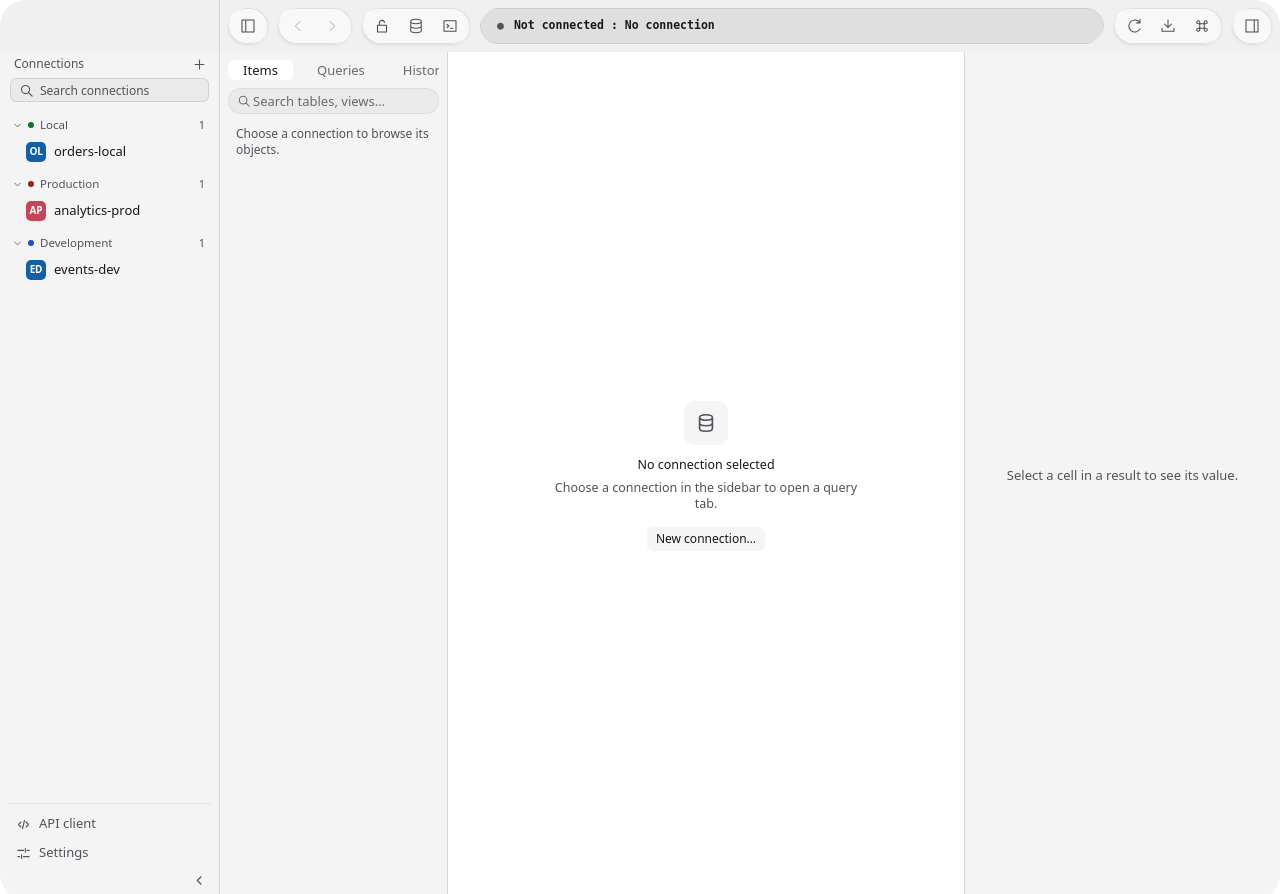
Scenario: defaults to workspace, opens the gallery from the command palette and returns by Back/Escape
expect the text "Choose a connection in the sidebar to open a query tab." is shown: met, box [546, 480, 866, 513]
Click the button named "Command palette": (1202, 26) [1185, 11, 1219, 41]
(page scrolled)
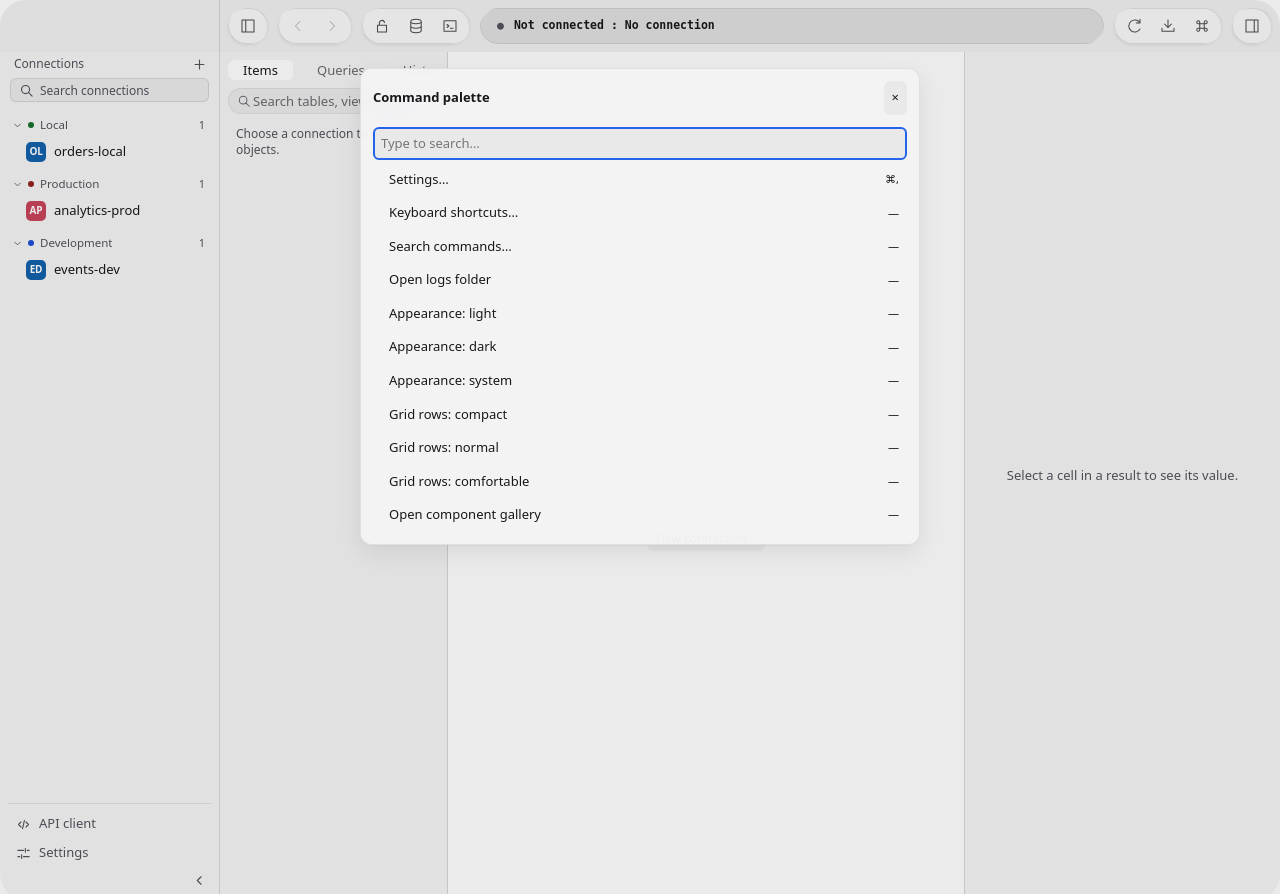
Click the option "Open component gallery —": (394, 514) [389, 505, 899, 523]
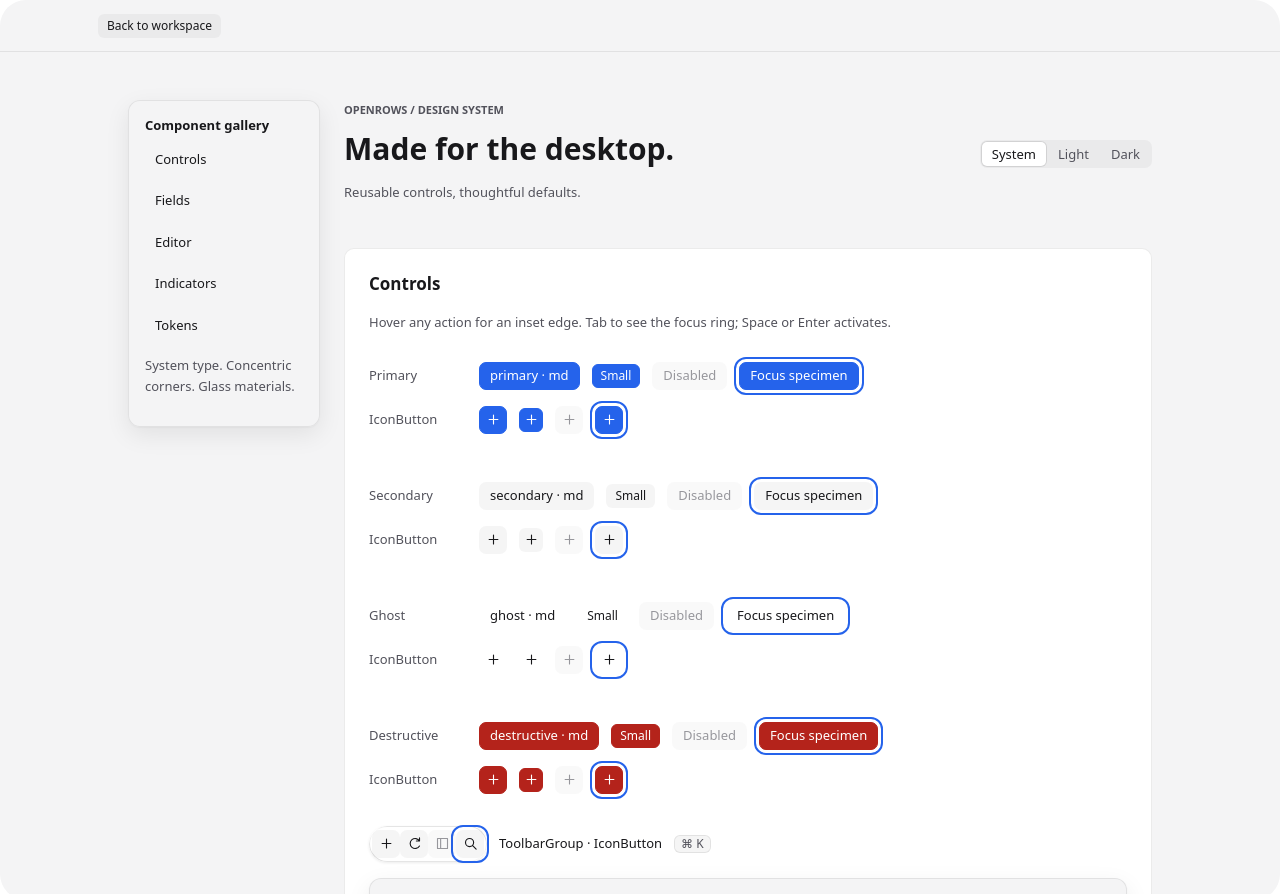
expect the heading "Made for the desktop." is shown: met, box [344, 129, 674, 169]
expect the text "open a query tab" is gone: met
Type keys "{Meta>}t{/Meta}"
Click the button "Back to workspace": (160, 26) [98, 14, 221, 38]
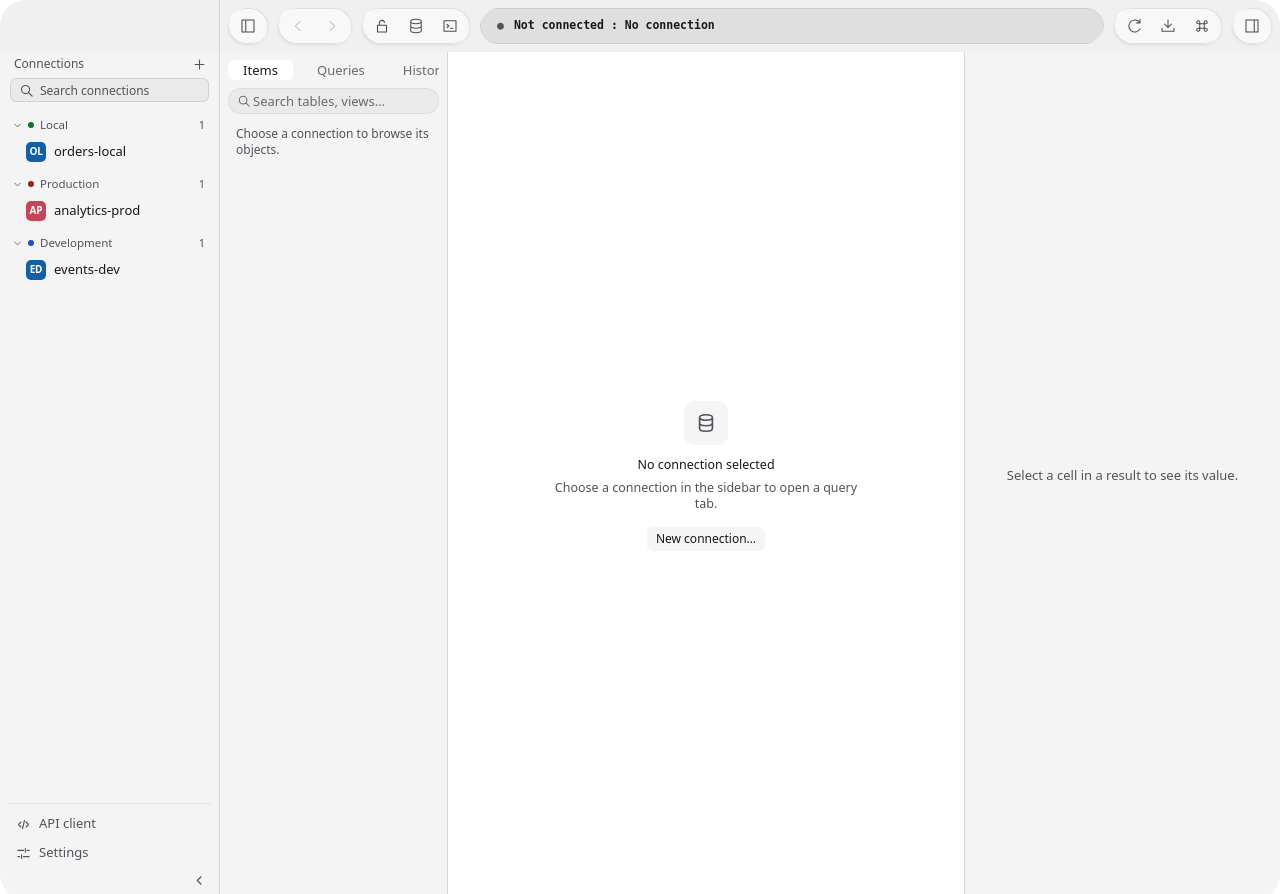
expect the text "Choose a connection in the sidebar to open a query tab." is shown: met, box [546, 480, 866, 513]
Click the button named "Command palette": (1202, 26) [1185, 11, 1219, 41]
(page scrolled)
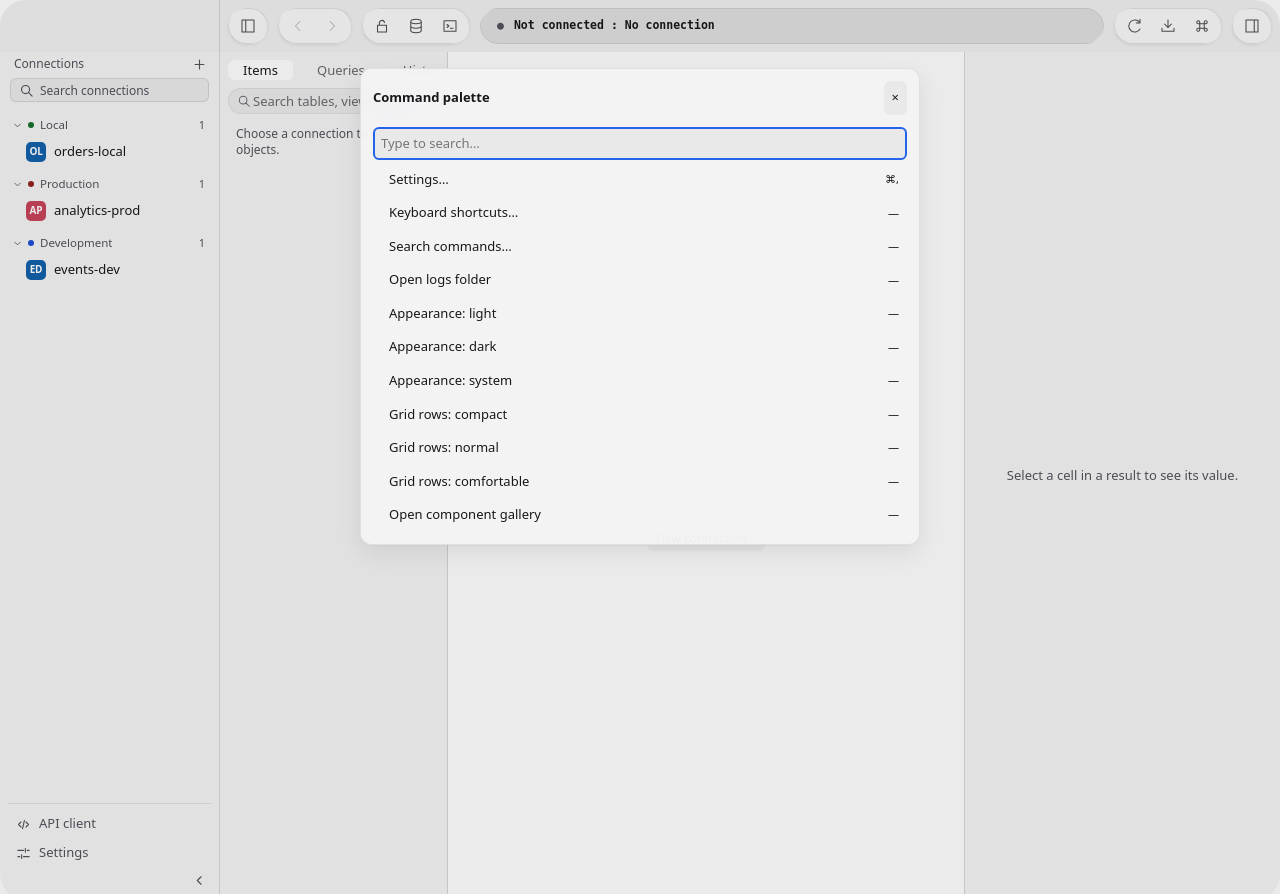
Click the option "Open component gallery —": (394, 514) [389, 505, 899, 523]
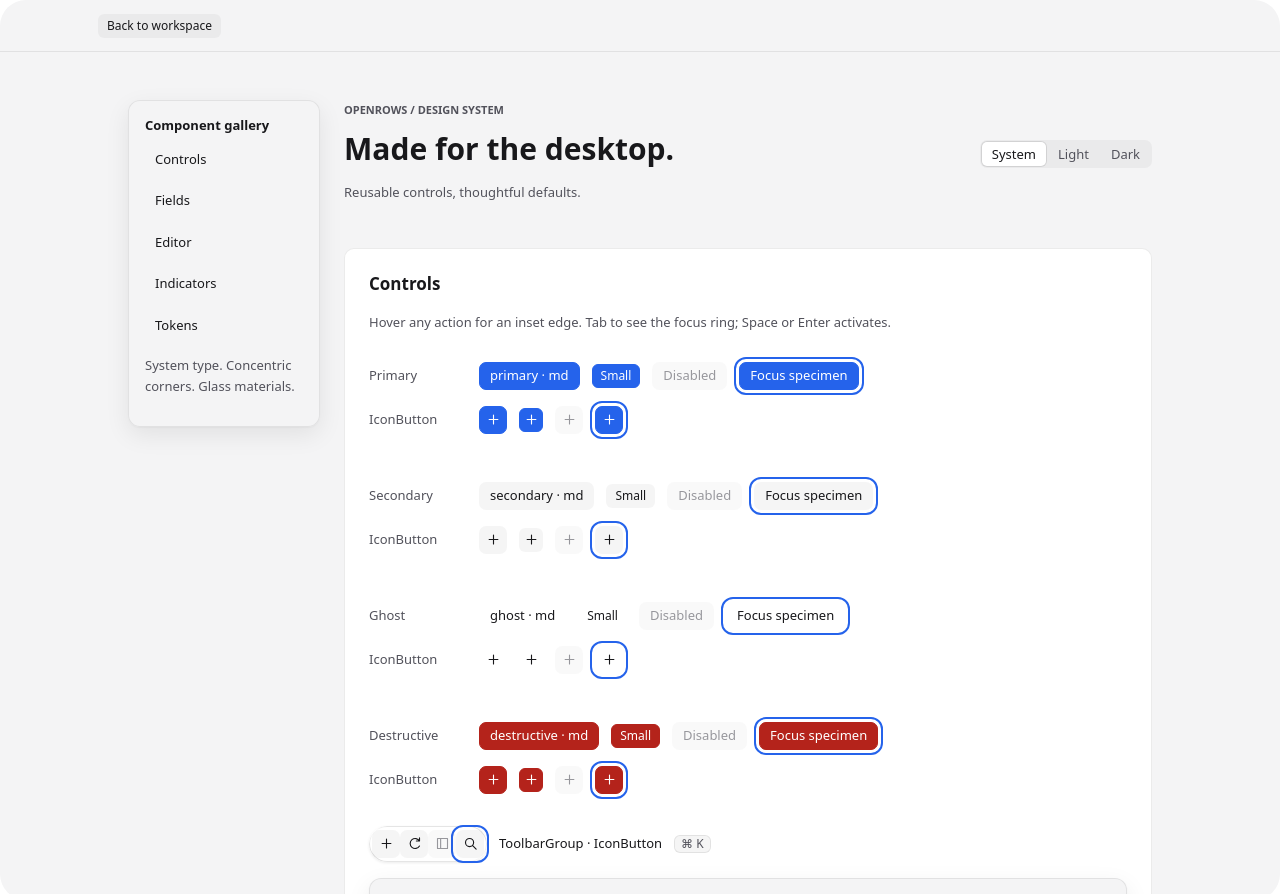
expect the heading "Made for the desktop." is shown: met, box [344, 129, 674, 169]
Press Escape
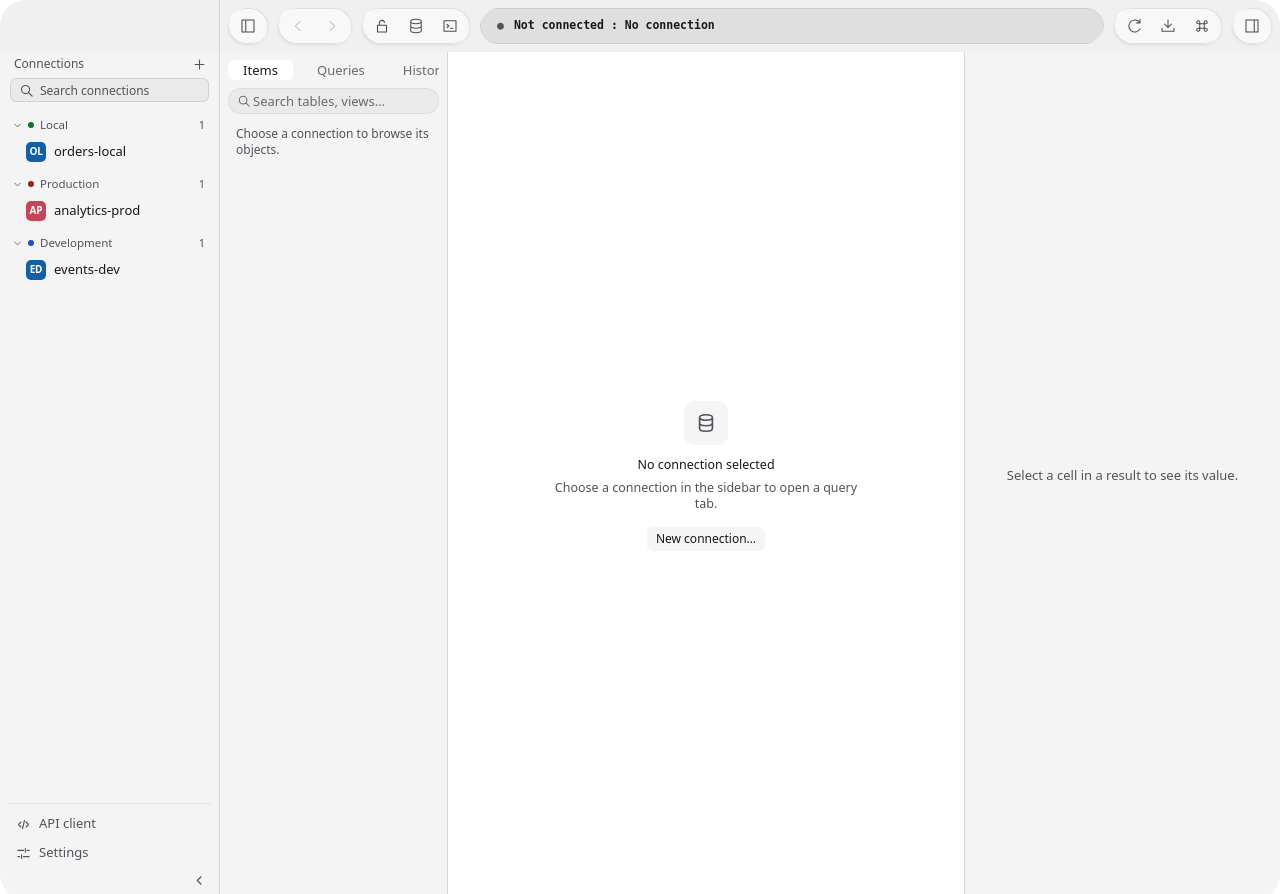
expect the text "Choose a connection in the sidebar to open a query tab." is shown: met, box [546, 480, 866, 513]
